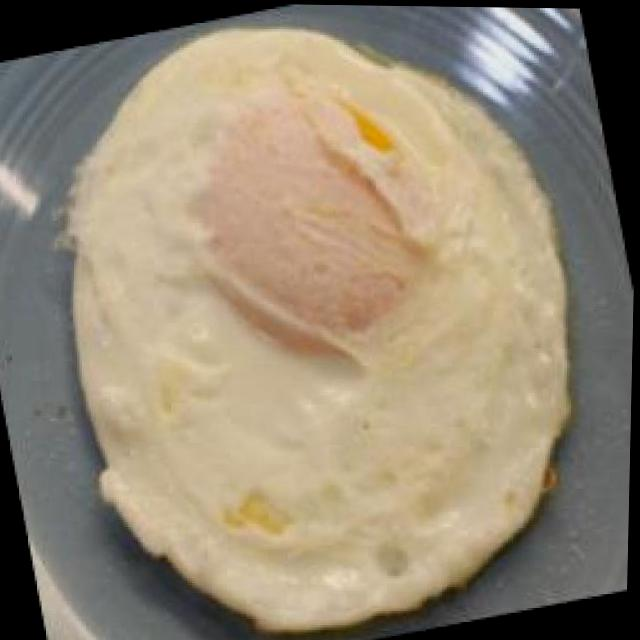fried_eggs: (4, 0, 633, 640)
